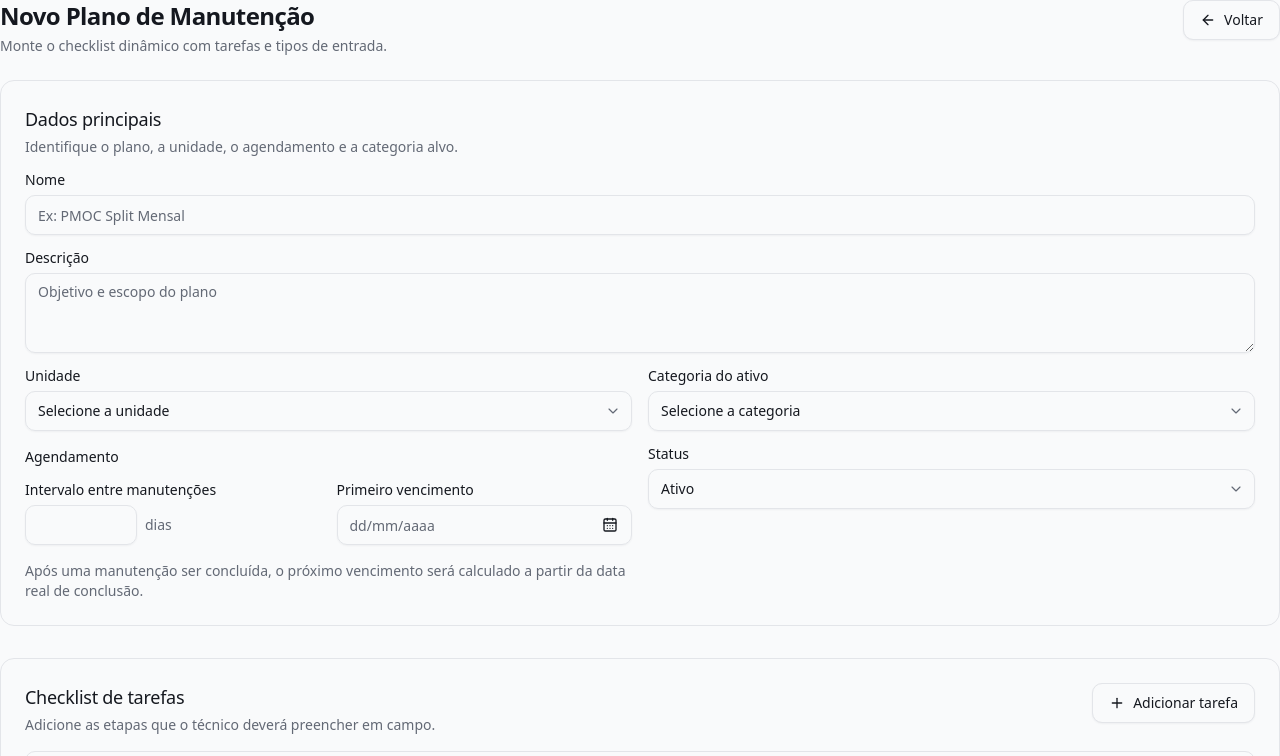
Scenario: CreatePlanPage validity gate › keeps pristine errors hidden and reveals only the blurred field, then all errors on submit
Check: the text "O nome é obrigatório." is not shown
Check: the text "Informe o primeiro vencimento." is not shown
Click the field labelled "Nome". click: (640, 215)
box: [25,195,1255,235]
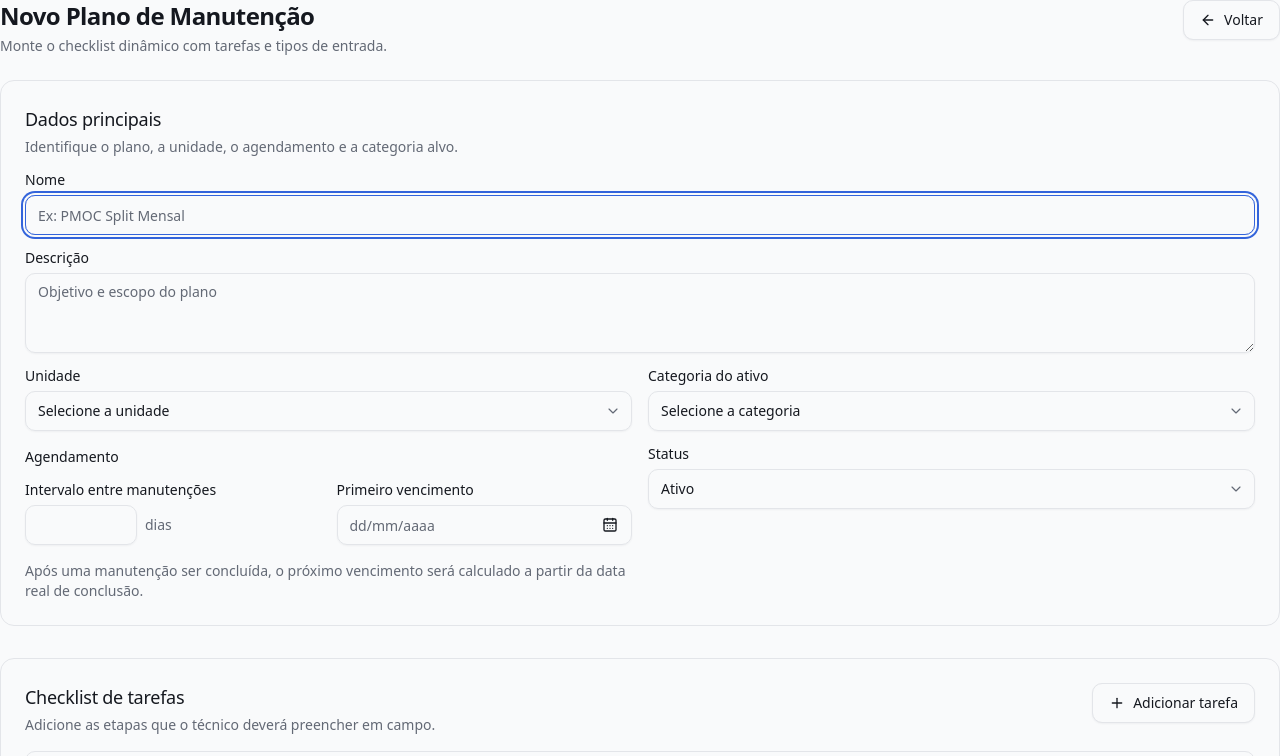
Press Tab
(page scrolled)
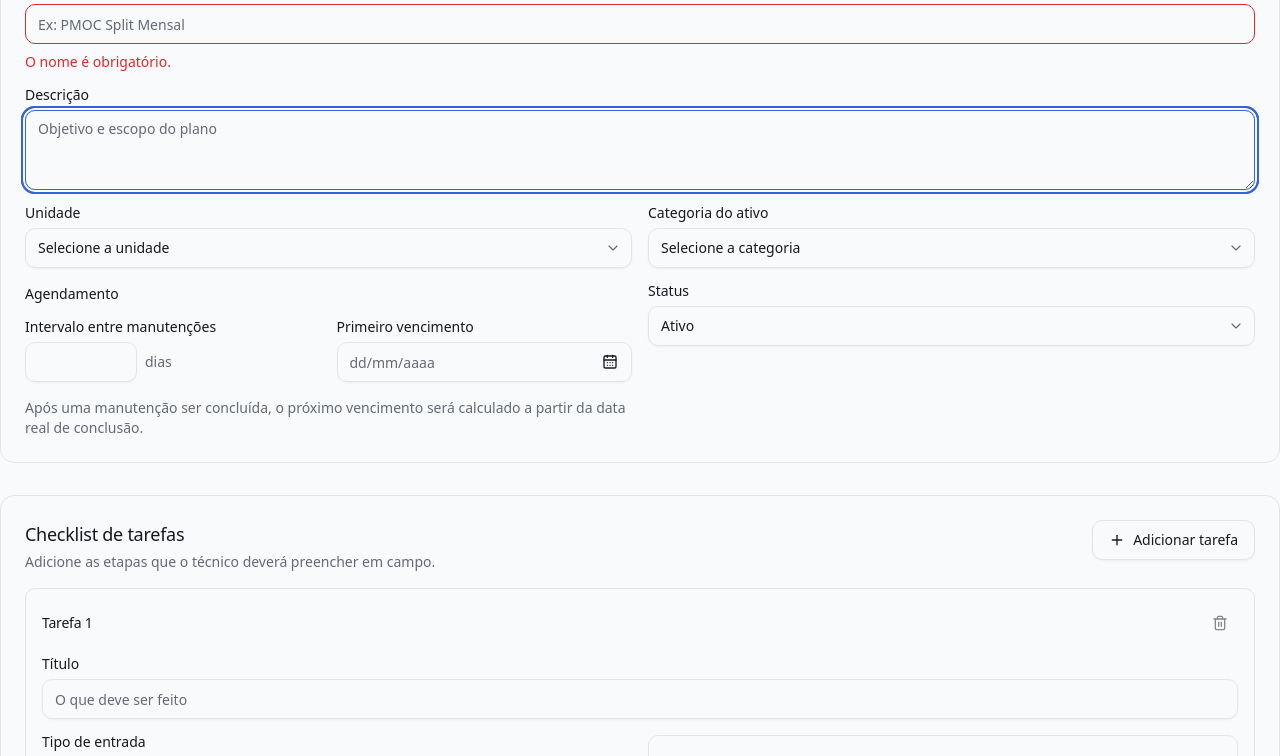
Check: the text "Informe o primeiro vencimento." is not shown
Check: the text "O nome é obrigatório." is shown once, box [25,52,171,71]
Submit the form named "Nome"
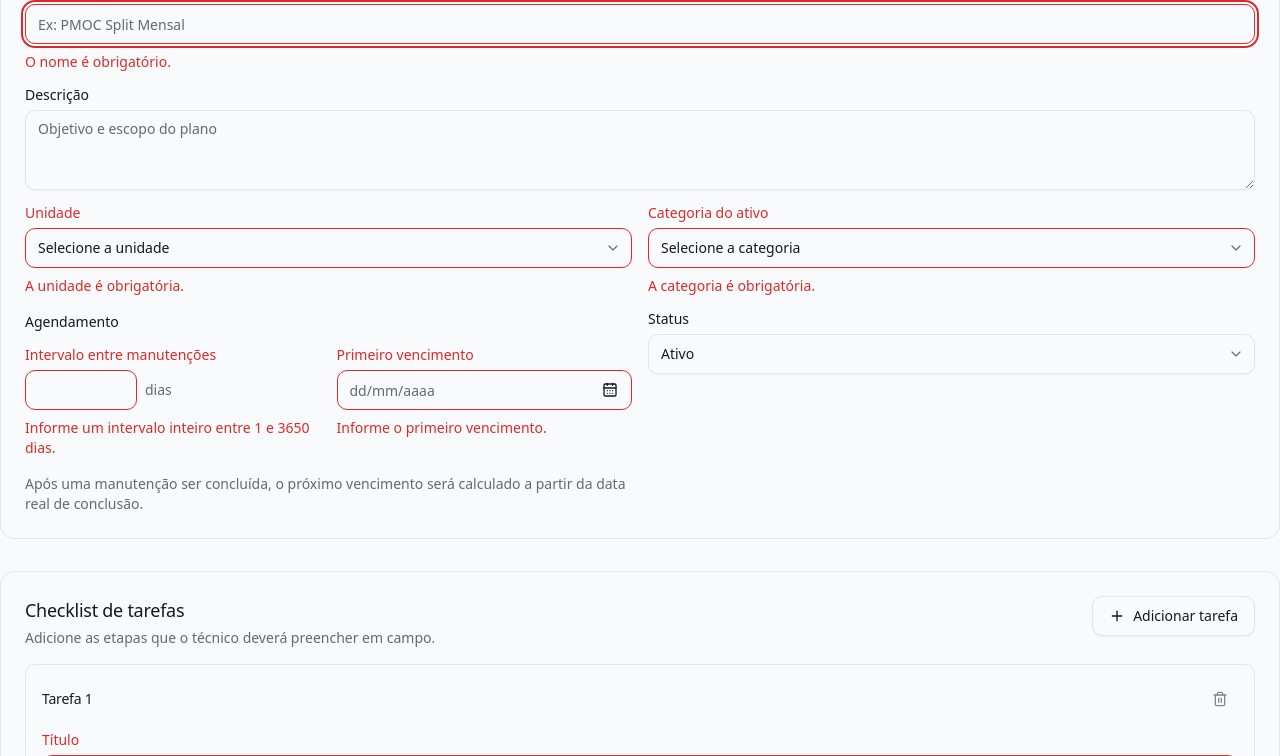
Check: the text "O nome é obrigatório." is shown once, box [25,52,171,71]
Check: the text "Informe o primeiro vencimento." is shown once, box [336,418,547,437]
Check: the text "A unidade é obrigatória." is shown once, box [25,276,184,295]
